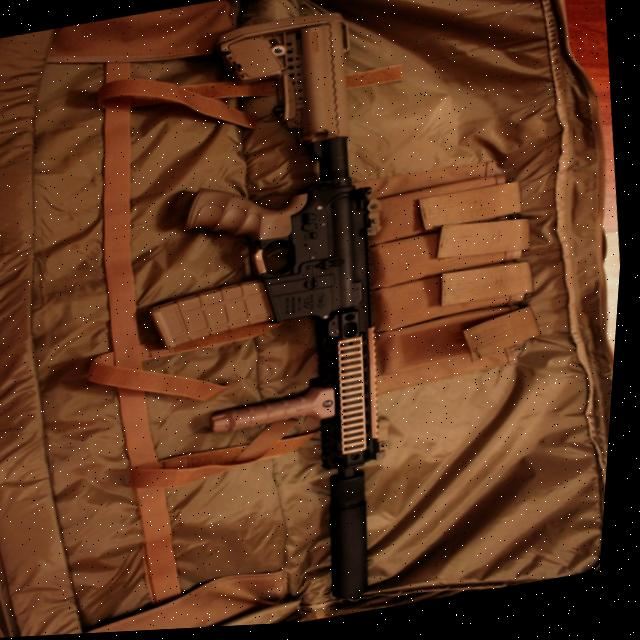firearm: (104, 5, 432, 631)
